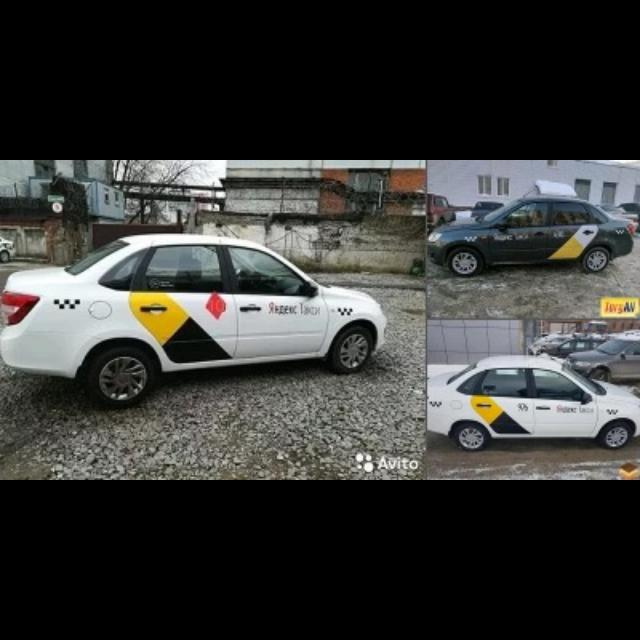taxi: (2, 232, 389, 409), (429, 180, 638, 283), (429, 353, 640, 453)
